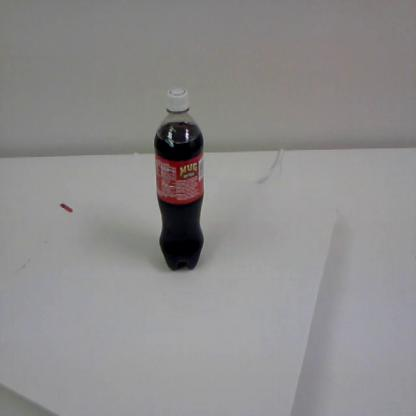bottle: (152, 85, 207, 273)
